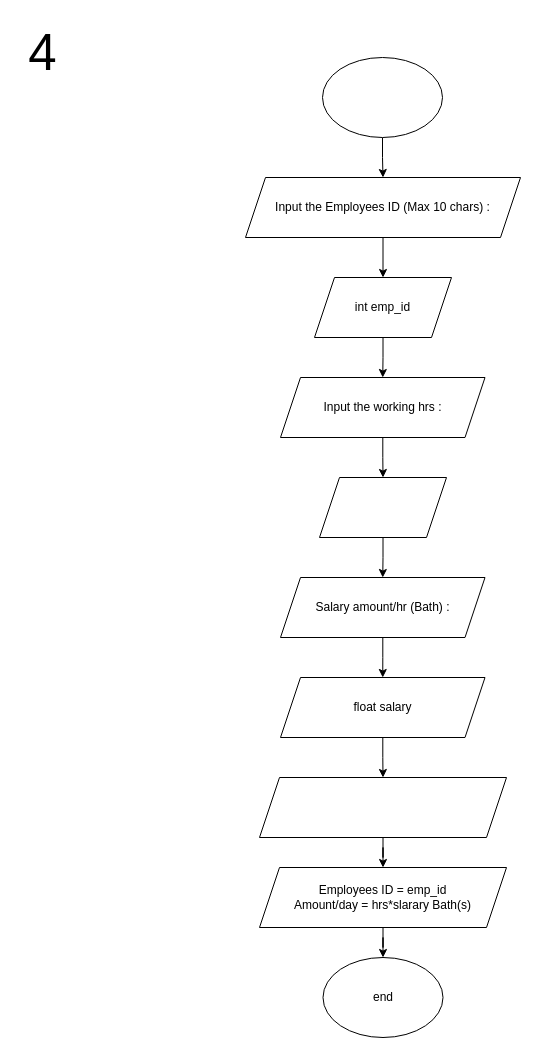
Some shapes in this 538 by 1055 pixel diagram are drawn without their labels. The shapes that lost their labels are listed below. From the top down, each one's box as (x1, y1, x2, y2) in pixels, then its label:
(322, 56, 442, 138): start
(318, 476, 446, 538): int hrs
(258, 776, 506, 838): ----\n Expected Output :\n
